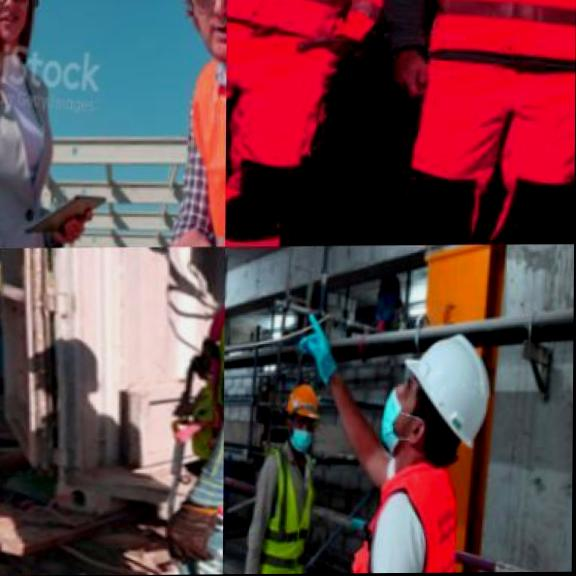safety_vest: (337, 453, 475, 573), (160, 4, 225, 246), (173, 247, 224, 503), (421, 0, 576, 70), (227, 0, 417, 51), (259, 447, 326, 574)
